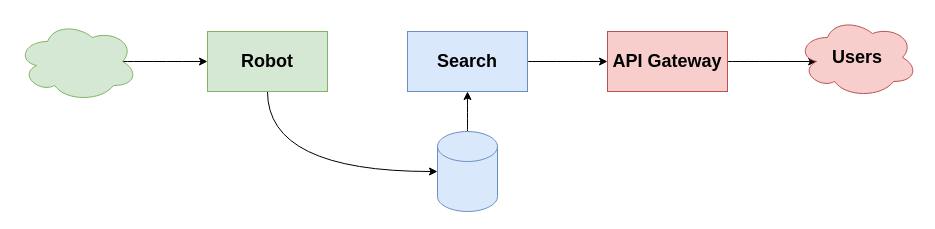
This 935x229 diagram has some shape labels left out. Each missing label, with the centre of its shape:
"DB" belongs at (x=467, y=171).
"web" belongs at (x=77, y=61).
